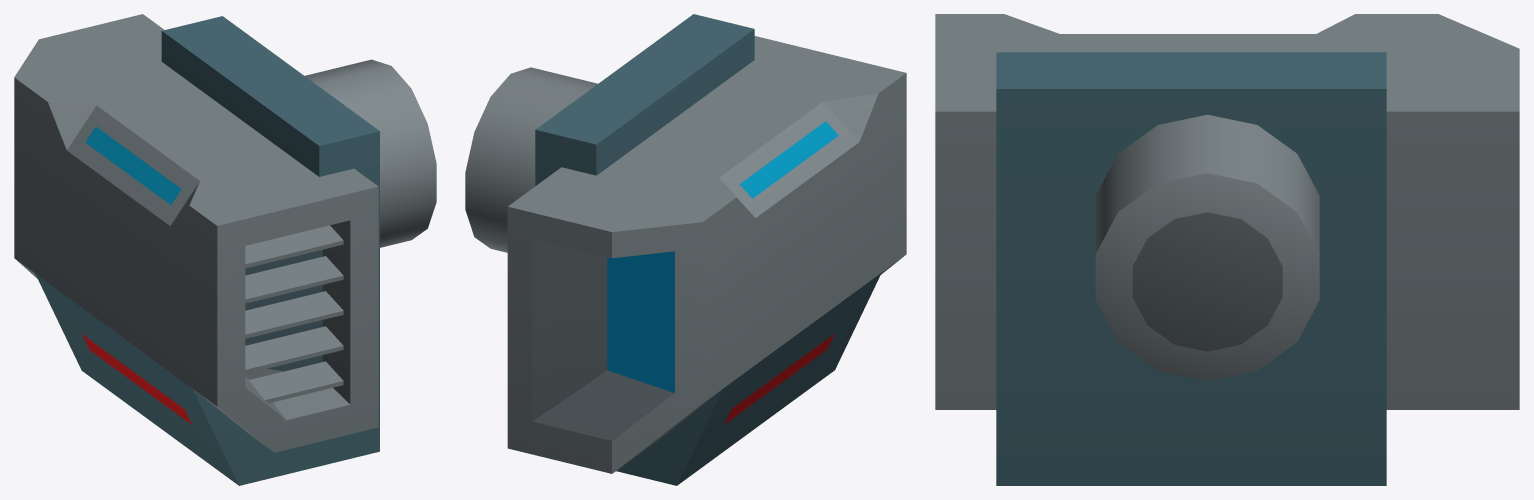
File: Drone_Delivery_04_EngineFR_01.002.fbx
3 views of the same model, side by side, from view 1: azimuth 30°, elevation 25°; view 2: azimuth 150°, elevation 25°; view 3: azimuth 270°, elevation 25° (orthographic). The views are drawn at different scales.
Parts seen in each view (by area): view 1: Drone_Delivery_04_EngineFR_01.002; view 2: Drone_Delivery_04_EngineFR_01.002; view 3: Drone_Delivery_04_EngineFR_01.002.
Boxes of the visible parts, x1=… form: Drone_Delivery_04_EngineFR_01.002: x1=14, y1=14, x2=436, y2=485; Drone_Delivery_04_EngineFR_01.002: x1=465, y1=14, x2=906, y2=485; Drone_Delivery_04_EngineFR_01.002: x1=935, y1=14, x2=1519, y2=485.
Size of the model in its own units: 37.32 by 52.18 by 39.11.
